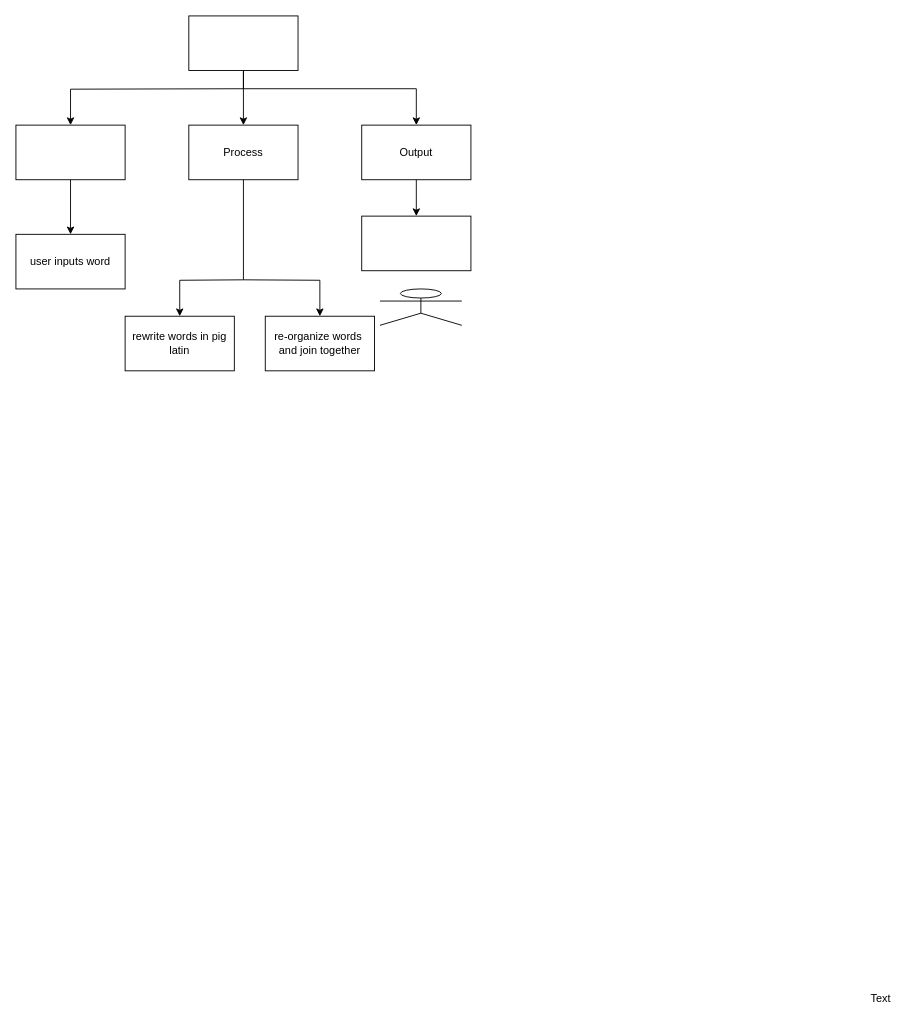
This 915x1024 diagram has some shape labels left out. Here are the shapes that lost their labels. From the top down, the centre of each, then its label:
(243,43): Pig Latin
(70,152): Input
(416,243): print output
